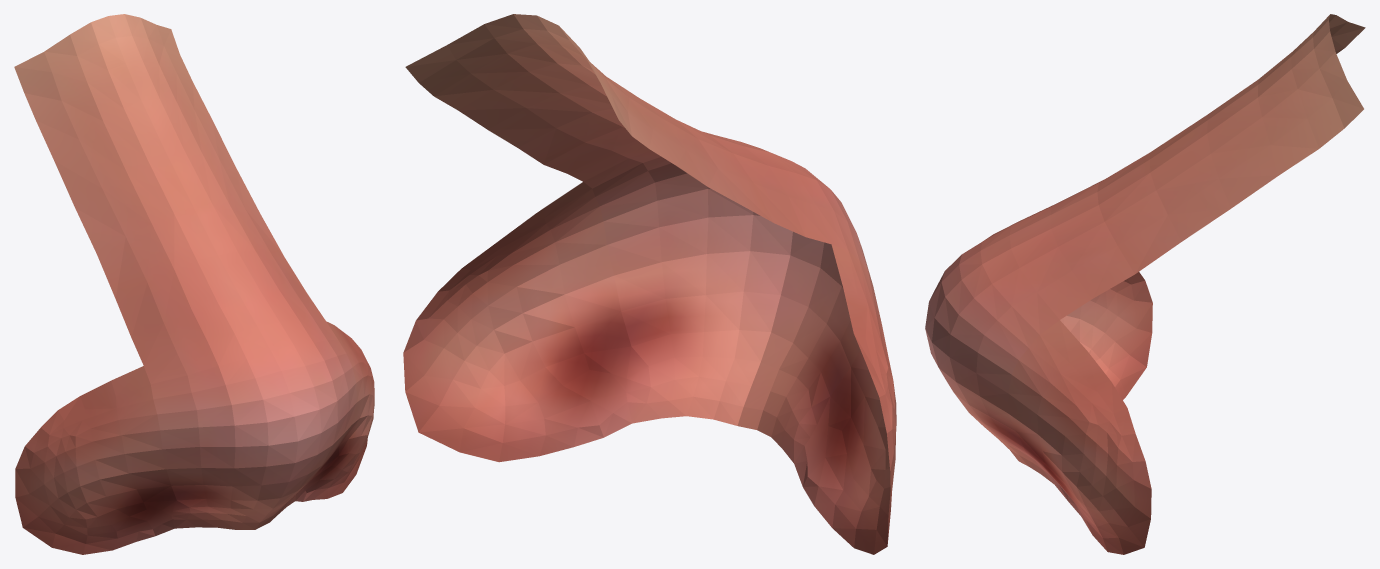
The model's file is euro-fem-nose-bridge-shallow.obj.
The picture shows the model from 3 angles, left to right: view 1: azimuth 30°, elevation 25°; view 2: azimuth 150°, elevation 25°; view 3: azimuth 270°, elevation 25°; orthographic projection. The views are drawn at different scales.
Visible parts, largest first — view 1: euro-fem-nose-bridge-shallow.006; view 2: euro-fem-nose-bridge-shallow.006; view 3: euro-fem-nose-bridge-shallow.006.
Boxes of the visible parts, x1,y1,x2,y2 form: euro-fem-nose-bridge-shallow.006: (14,14,374,554); euro-fem-nose-bridge-shallow.006: (403,14,896,554); euro-fem-nose-bridge-shallow.006: (925,14,1365,554).
Bounding box in the file's own units: 0.2586 × 0.3009 × 0.2591.
1 material, 1 textured.
